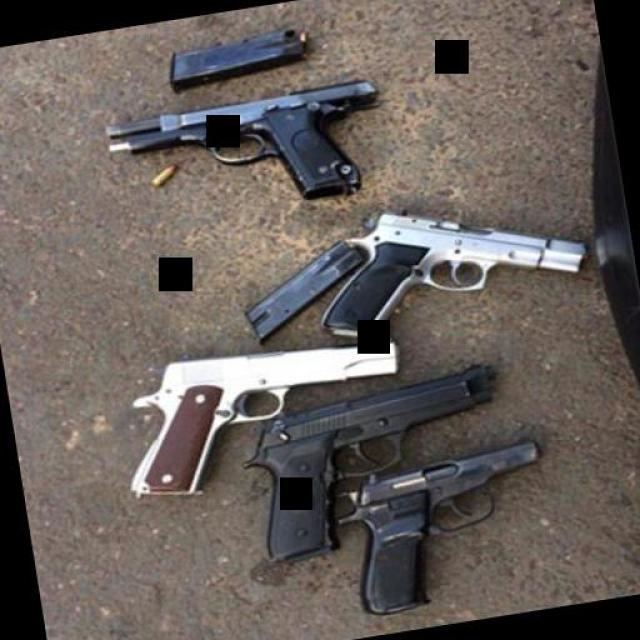gun: (223, 358, 516, 564), (106, 326, 422, 506), (295, 175, 597, 341), (96, 71, 395, 235), (325, 435, 564, 617)
